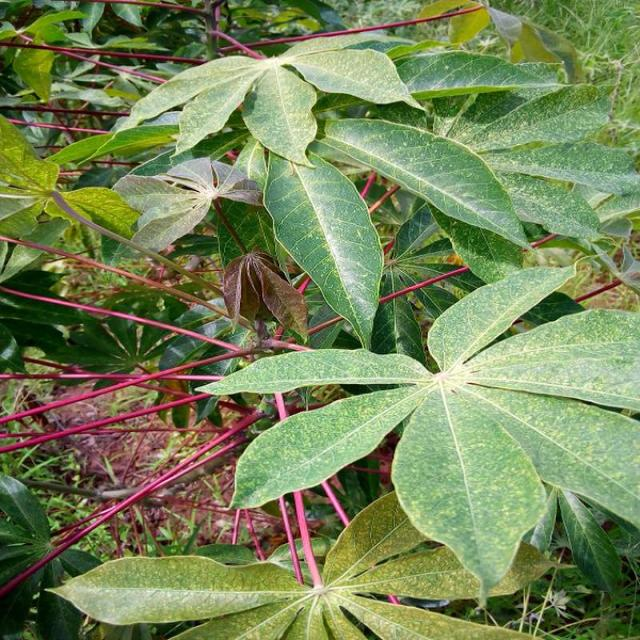cassava leaf: (195, 260, 640, 604), (45, 486, 550, 639), (262, 147, 385, 349)
